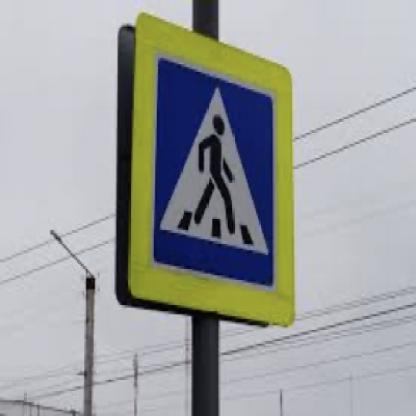crosswalk: (152, 57, 276, 290)
